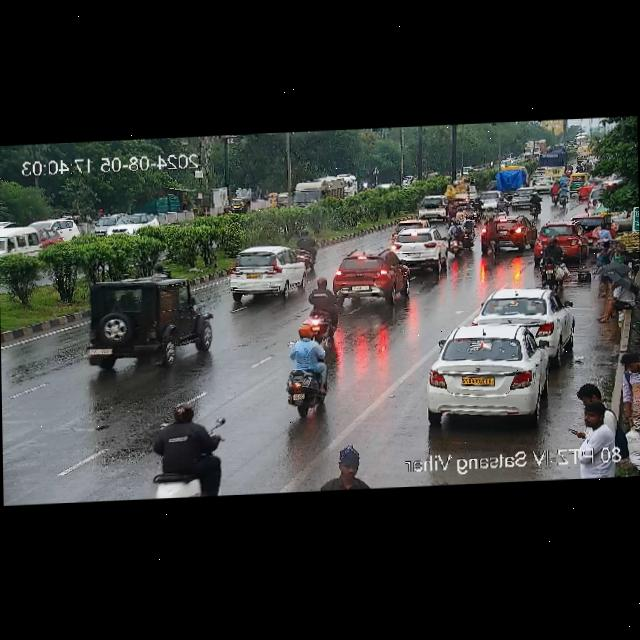car: (420, 321, 564, 424), (76, 280, 214, 372), (472, 287, 570, 346), (222, 247, 307, 301), (331, 244, 406, 302), (391, 226, 447, 264), (479, 215, 533, 252), (533, 222, 585, 257), (0, 225, 36, 264), (26, 217, 80, 243), (114, 211, 158, 237), (414, 195, 451, 219), (86, 212, 120, 238), (572, 210, 597, 236), (508, 188, 540, 208), (578, 179, 600, 203), (394, 218, 429, 232), (568, 171, 584, 194), (230, 195, 248, 214), (529, 176, 553, 190), (482, 190, 498, 211), (274, 193, 288, 209)
motorcycle: (150, 395, 227, 499), (285, 324, 327, 411), (310, 275, 336, 340), (536, 238, 569, 284), (446, 218, 472, 255), (481, 215, 502, 260), (292, 231, 314, 268), (484, 196, 509, 218), (550, 182, 570, 205), (531, 190, 540, 218), (576, 159, 593, 171), (566, 165, 572, 175), (560, 173, 568, 180)
person: (573, 378, 615, 425), (330, 440, 369, 488), (617, 351, 640, 431), (597, 277, 635, 323), (574, 399, 608, 438), (596, 220, 616, 264)
truck: (290, 175, 348, 208), (490, 166, 526, 195), (449, 177, 475, 207), (346, 172, 359, 196)
